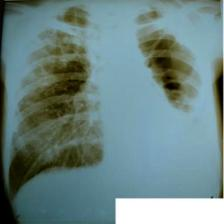tuberculosis: (0, 0, 207, 201)
